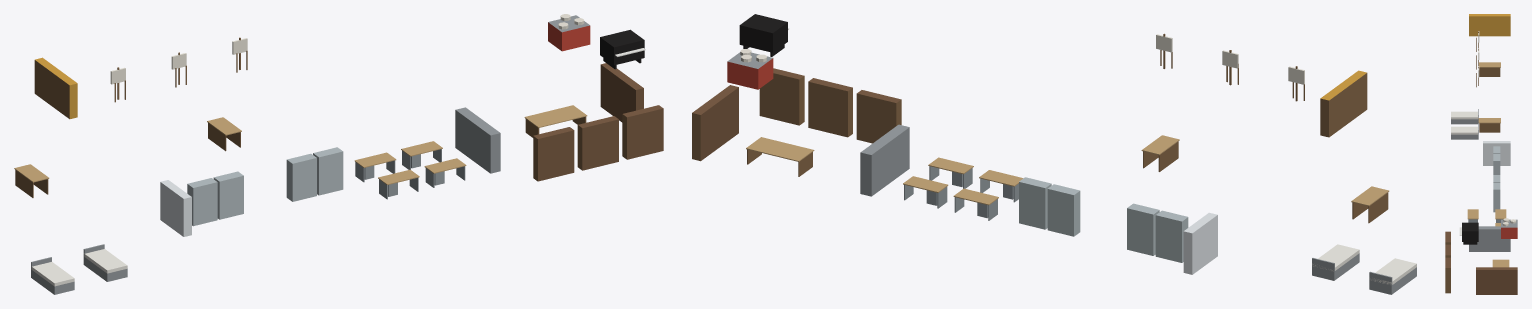
Rendered from school-props.glb.
3 renders of one model, left to right at view 1: azimuth 30°, elevation 25°; view 2: azimuth 150°, elevation 25°; view 3: azimuth 270°, elevation 25°, orthographic. The views are drawn at different scales.
Visible parts, largest first — view 1: p4, p7, p5, p6, p22, p8, p12, p15, p17, p18, p13, p14 (+10 smaller); view 2: p8, p4, p6, p22, p7, p5, p12, p15, p17, p18, p13, p14 (+10 smaller); view 3: p8, p22, p4, p12, p17, p10, p11, p18, p24, p23, p16, p7 (+8 smaller).
Boxes of the visible parts, left/top/right/bottom form: p4: left=455, top=107, right=500, bottom=173; p7: left=622, top=105, right=663, bottom=159; p5: left=533, top=127, right=574, bottom=181; p6: left=577, top=116, right=618, bottom=170; p22: left=34, top=57, right=77, bottom=119; p8: left=600, top=63, right=643, bottom=122; p12: left=160, top=180, right=191, bottom=236; p15: left=286, top=153, right=316, bottom=201; p17: left=600, top=29, right=645, bottom=69; p18: left=548, top=14, right=590, bottom=51; p13: left=187, top=178, right=217, bottom=226; p14: left=213, top=171, right=243, bottom=219; p8: left=692, top=85, right=738, bottom=161; p4: left=860, top=124, right=909, bottom=196; p6: left=808, top=78, right=852, bottom=137; p22: left=1320, top=70, right=1367, bottom=137; p7: left=759, top=68, right=804, bottom=125; p5: left=856, top=90, right=901, bottom=143; p12: left=1183, top=212, right=1217, bottom=274; p15: left=1047, top=184, right=1080, bottom=236; p17: left=739, top=14, right=789, bottom=56; p18: left=727, top=49, right=773, bottom=89; p13: left=1155, top=210, right=1188, bottom=262; p14: left=1127, top=203, right=1159, bottom=255; p8: left=1476, top=267, right=1517, bottom=294; p22: left=1469, top=14, right=1510, bottom=36; p4: left=1469, top=226, right=1510, bottom=251; p12: left=1483, top=141, right=1510, bottom=165; p17: left=1459, top=222, right=1478, bottom=244; p10: left=1451, top=109, right=1478, bottom=124; p11: left=1451, top=124, right=1478, bottom=139; p18: left=1501, top=218, right=1517, bottom=238; p24: left=1478, top=118, right=1500, bottom=132; p23: left=1479, top=62, right=1500, bottom=76; p16: left=1493, top=182, right=1500, bottom=212; p7: left=1445, top=257, right=1450, bottom=293.
Size of the model in its own units: 30.1 by 9 by 5.2.
